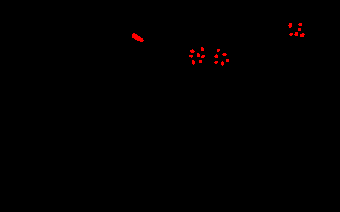Target: (132, 33, 144, 42), (288, 23, 292, 28), (300, 33, 305, 37), (190, 49, 195, 53), (294, 32, 298, 36), (214, 54, 218, 58), (222, 53, 227, 56), (192, 60, 195, 65), (221, 61, 224, 66), (298, 23, 302, 26), (289, 33, 293, 36), (201, 47, 204, 51), (197, 53, 200, 57), (189, 55, 193, 58), (201, 55, 205, 58), (214, 61, 218, 64), (298, 28, 301, 31), (217, 49, 220, 52), (226, 59, 229, 62), (199, 60, 202, 63)
